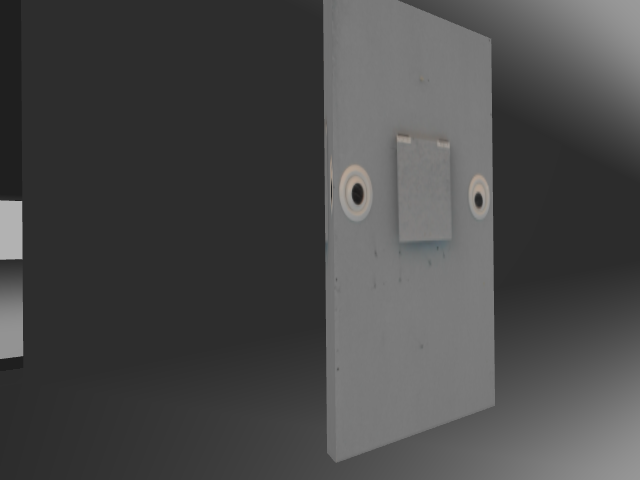facade: (335, 127, 491, 246)
